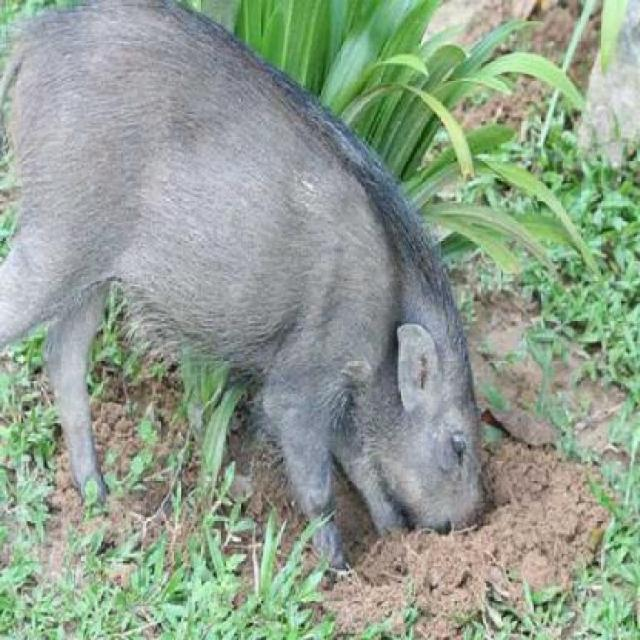Boar: (0, 0, 568, 620)
